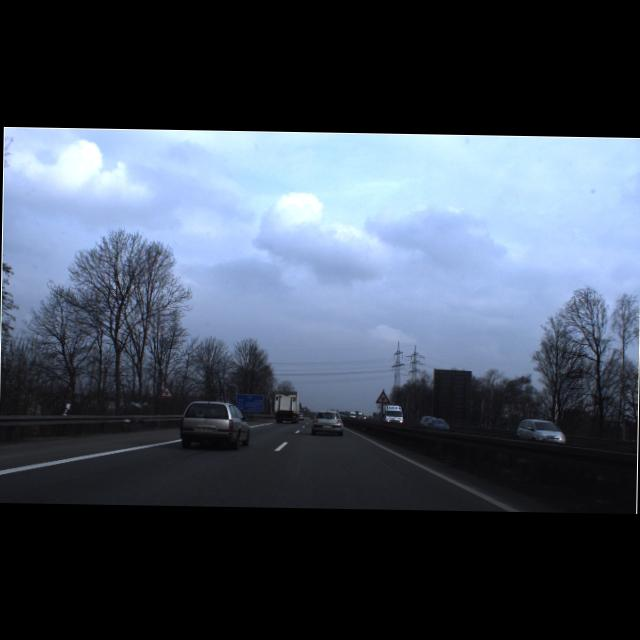danger: (374, 391, 390, 404), (158, 385, 173, 398)
